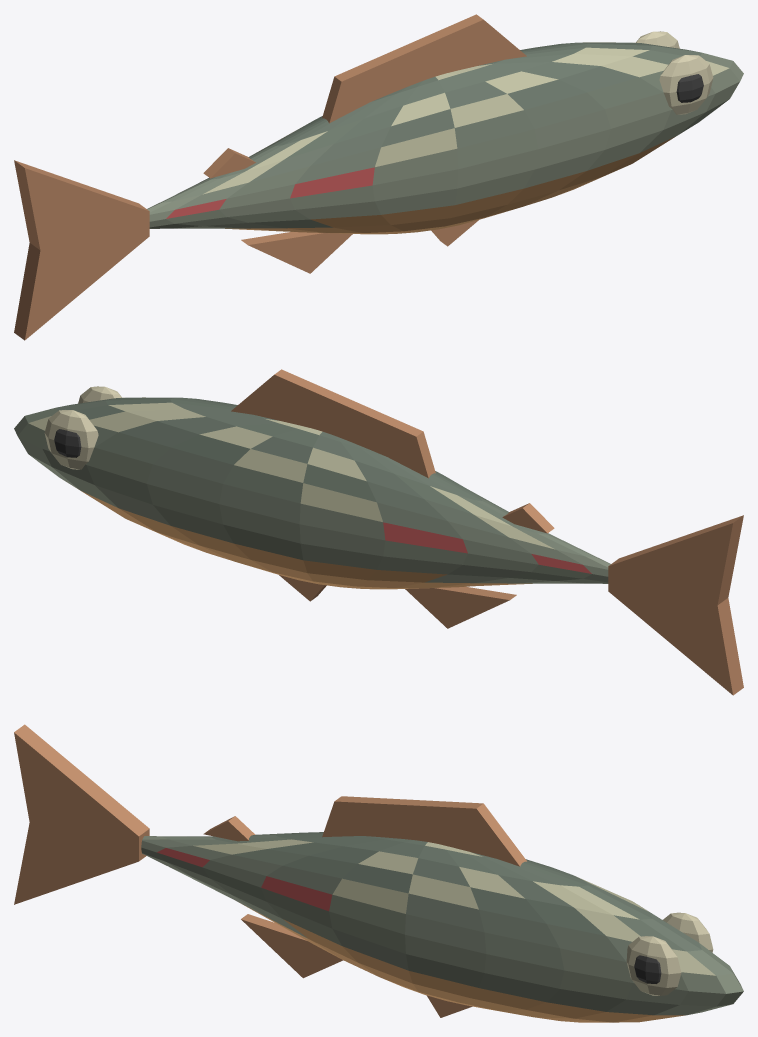
The model's file is BrookTrout.glb.
3 renders of one model, top to bottom at view 1: azimuth 30°, elevation 25°; view 2: azimuth 150°, elevation 25°; view 3: azimuth 330°, elevation 25°, orthographic.
Parts seen in each view (by area): view 1: BrookTrout; view 2: BrookTrout; view 3: BrookTrout.
Part boxes in pixels (left/top/right/bottom): BrookTrout: left=14, top=14, right=743, bottom=340; BrookTrout: left=14, top=369, right=743, bottom=695; BrookTrout: left=14, top=724, right=743, bottom=1022.
Size of the model in its own units: 2.8 by 0.8069 by 0.3569.
